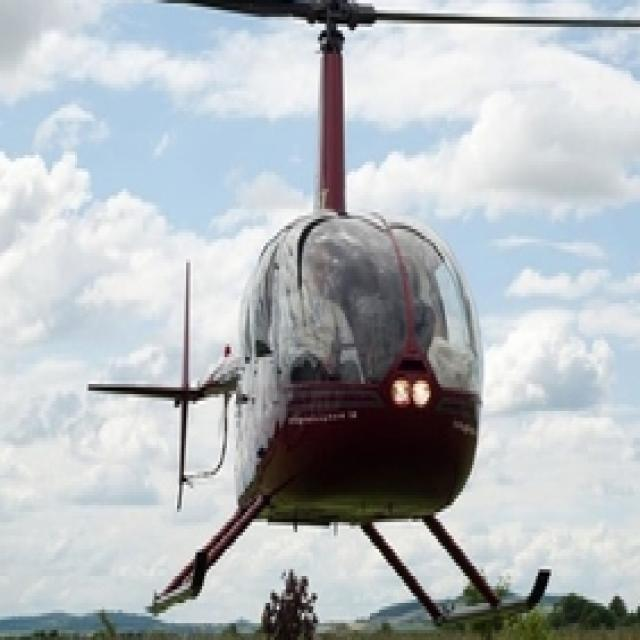helicopter: (3, 1, 640, 638)
